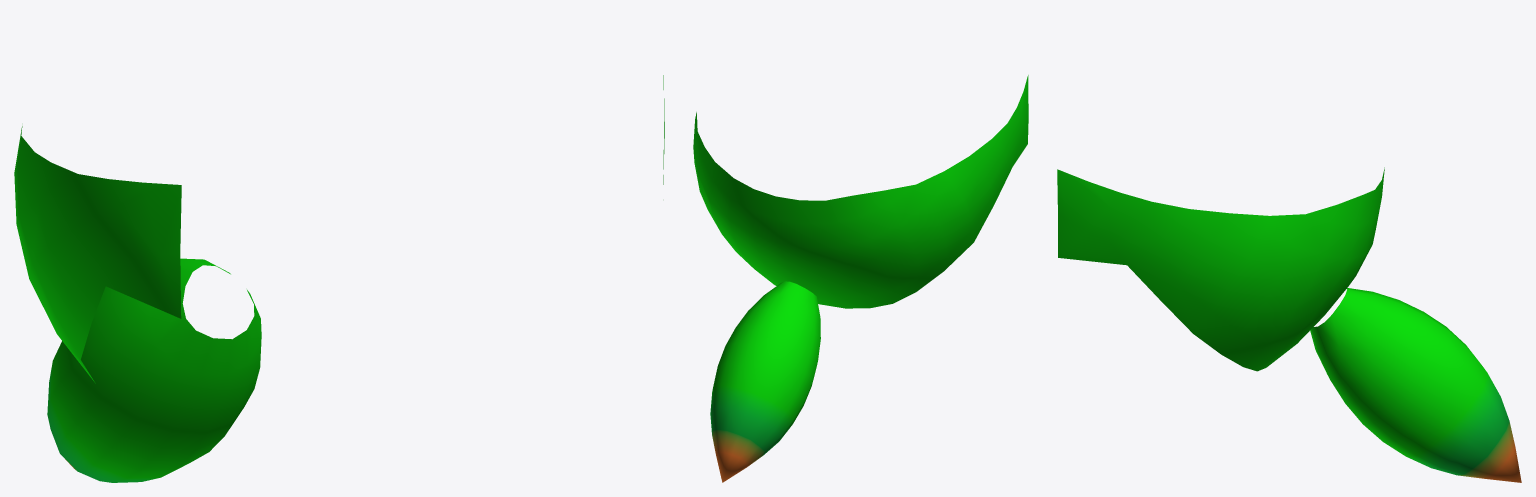
The model's file is Hair2_97.glb.
3 views of the same model, side by side, from view 1: azimuth 30°, elevation 25°; view 2: azimuth 150°, elevation 25°; view 3: azimuth 270°, elevation 25° (orthographic). The views are drawn at different scales.
Bounding box in the file's own units: 54.77 × 56.45 × 60.72.
